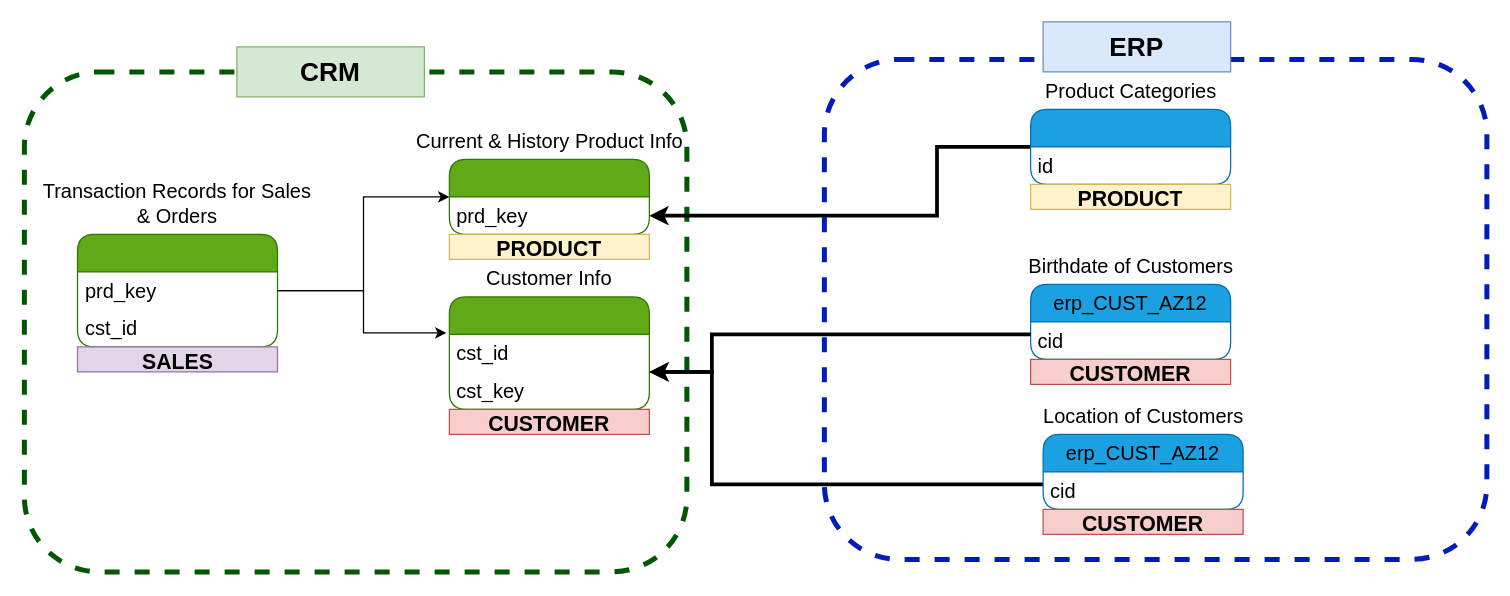
This 1510x596 diagram has some shape labels left out. Here are the shapes that lost their labels. From the top down, the box of each, then its label:
(1029, 108, 1231, 184): erp_PX_CAT_G1V2
(448, 158, 649, 234): crm_prd_info
(76, 233, 278, 347): crm_sales_details
(448, 296, 649, 409): crm_cust_info
